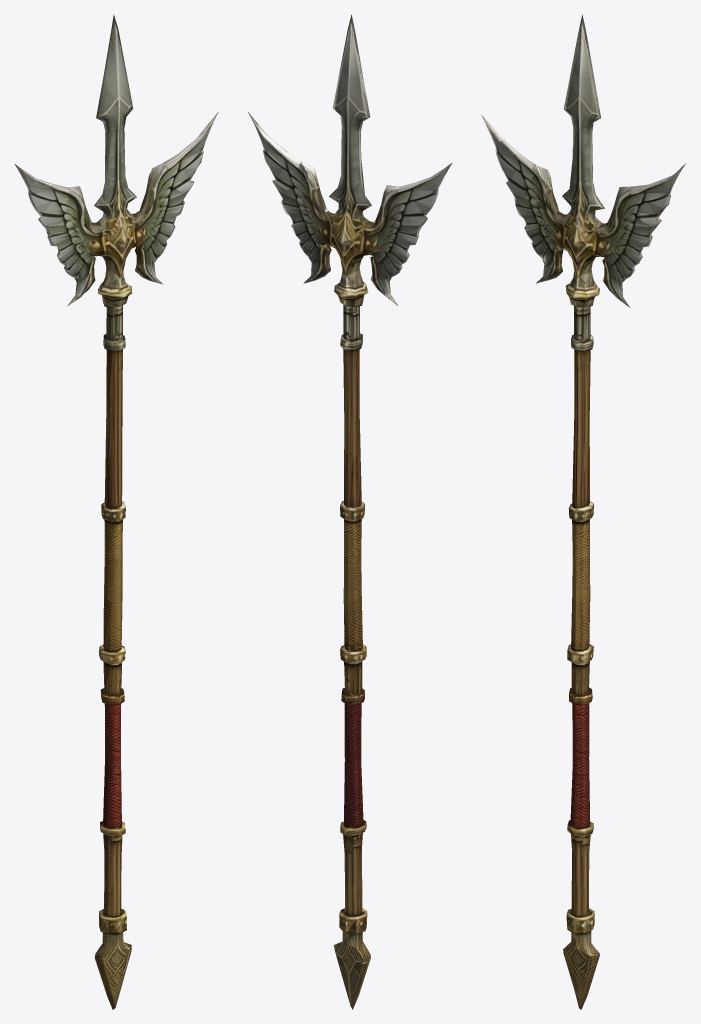
The model's file is winged_partisan.glb.
3 renders of one model, left to right at view 1: azimuth 30°, elevation 25°; view 2: azimuth 150°, elevation 25°; view 3: azimuth 330°, elevation 25°, orthographic.
Visible parts, largest first — view 1: Winged Partisan; view 2: Winged Partisan; view 3: Winged Partisan.
Boxes of the visible parts, x1=… form: Winged Partisan: x1=15, y1=14, x2=218, y2=1009; Winged Partisan: x1=248, y1=14, x2=451, y2=1009; Winged Partisan: x1=481, y1=14, x2=685, y2=1009.
Bounding box in the file's own units: 0.435 × 2.02 × 0.0693.
Materials: 1 (1 with a texture image).
